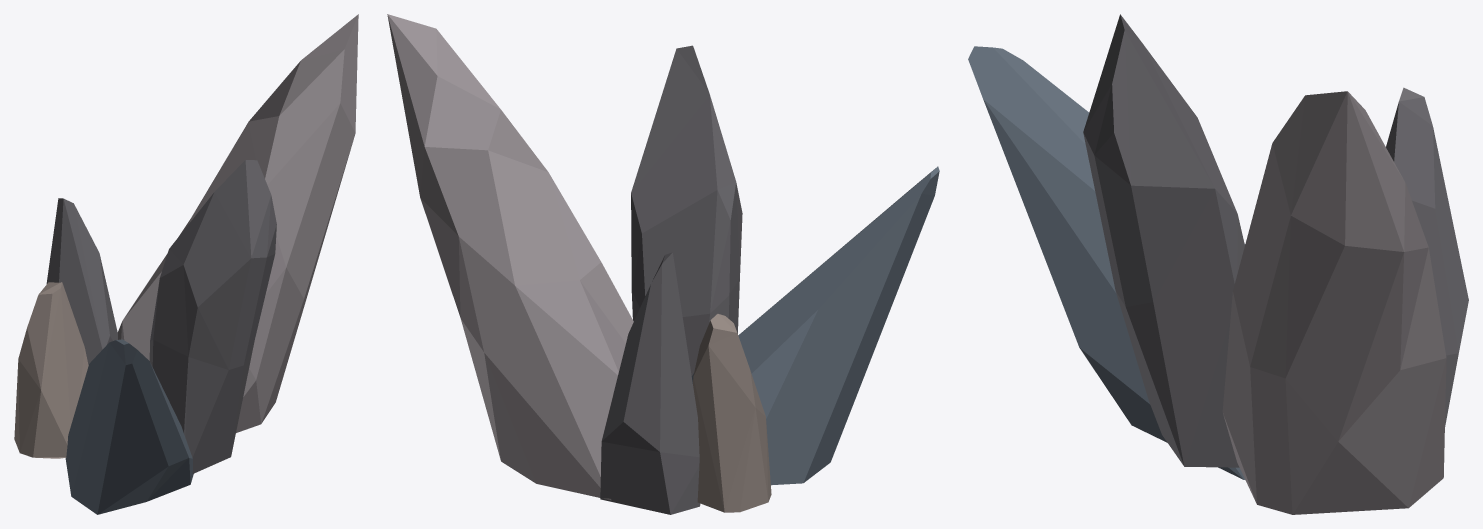
Rendered from Rocks_Sharp_l_06.fbx.
3 renders of one model, left to right at view 1: azimuth 30°, elevation 25°; view 2: azimuth 150°, elevation 25°; view 3: azimuth 270°, elevation 25°, orthographic. The views are drawn at different scales.
Parts seen in each view (by area): view 1: Rocks_Sharp_l_06; view 2: Rocks_Sharp_l_06; view 3: Rocks_Sharp_l_06.
Part boxes in pixels (left/top/right/bottom): Rocks_Sharp_l_06: left=14, top=14, right=358, bottom=514; Rocks_Sharp_l_06: left=387, top=14, right=939, bottom=514; Rocks_Sharp_l_06: left=968, top=14, right=1468, bottom=514.
Size of the model in its own units: 4.07 by 3.96 by 3.42.
